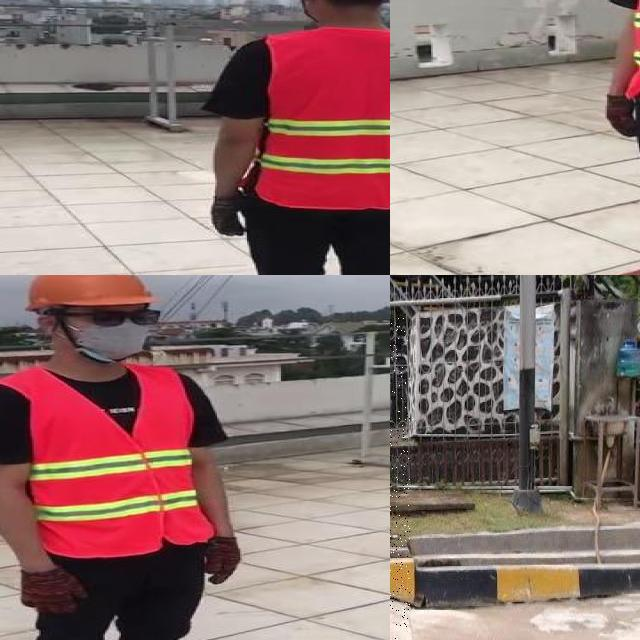boots: (605, 210, 640, 275)
face_mask: (63, 304, 163, 358)
glasses: (80, 303, 166, 332)
hand_glove: (20, 568, 89, 618), (208, 195, 250, 238), (206, 534, 240, 583), (604, 93, 638, 139)
head_helmet: (16, 275, 163, 312)
person: (0, 275, 257, 640), (203, 0, 390, 275), (590, 0, 640, 275)
vest: (28, 362, 210, 558), (259, 29, 390, 210)
